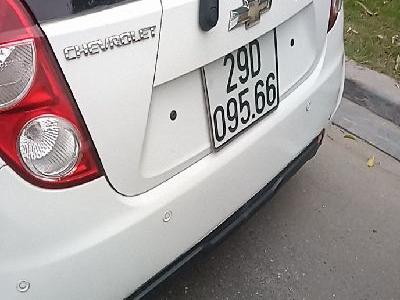lisence: (198, 27, 278, 152)
